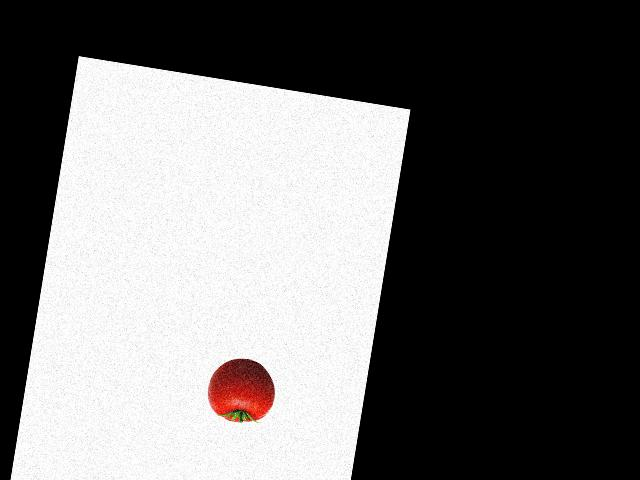tomato: (211, 354, 279, 427)
